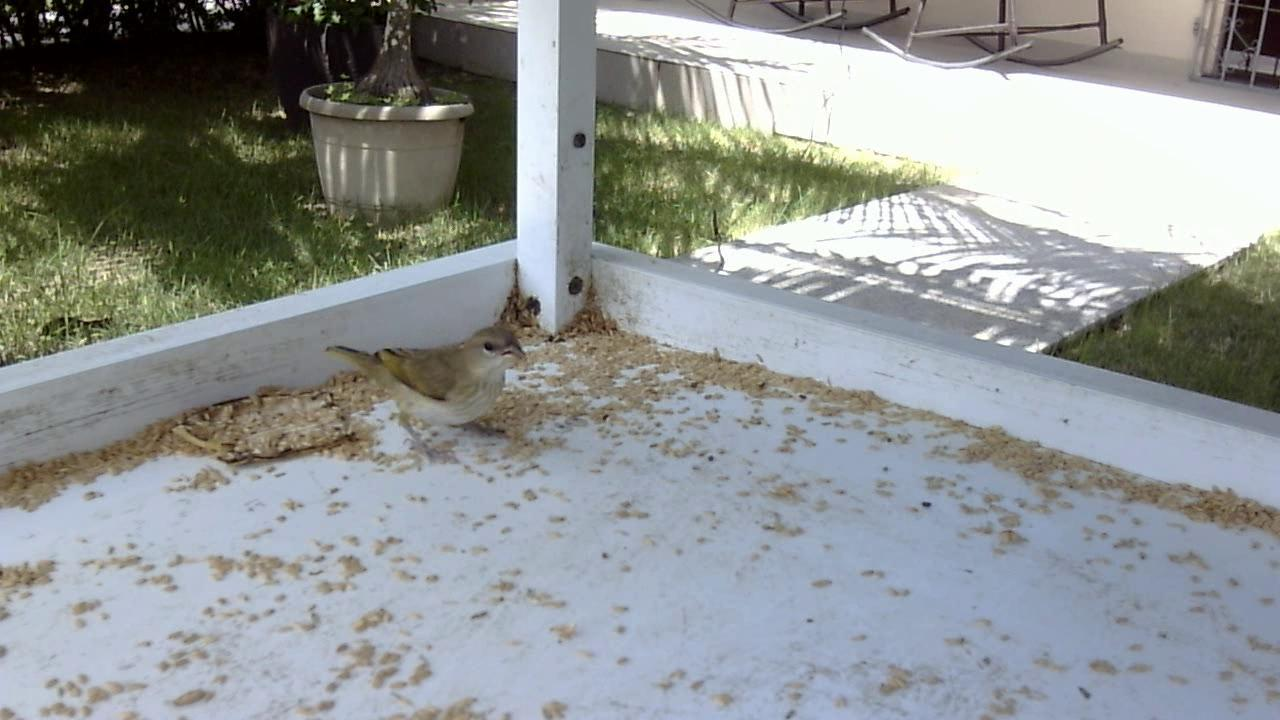canario_do_amazonas: (320, 319, 531, 456)
